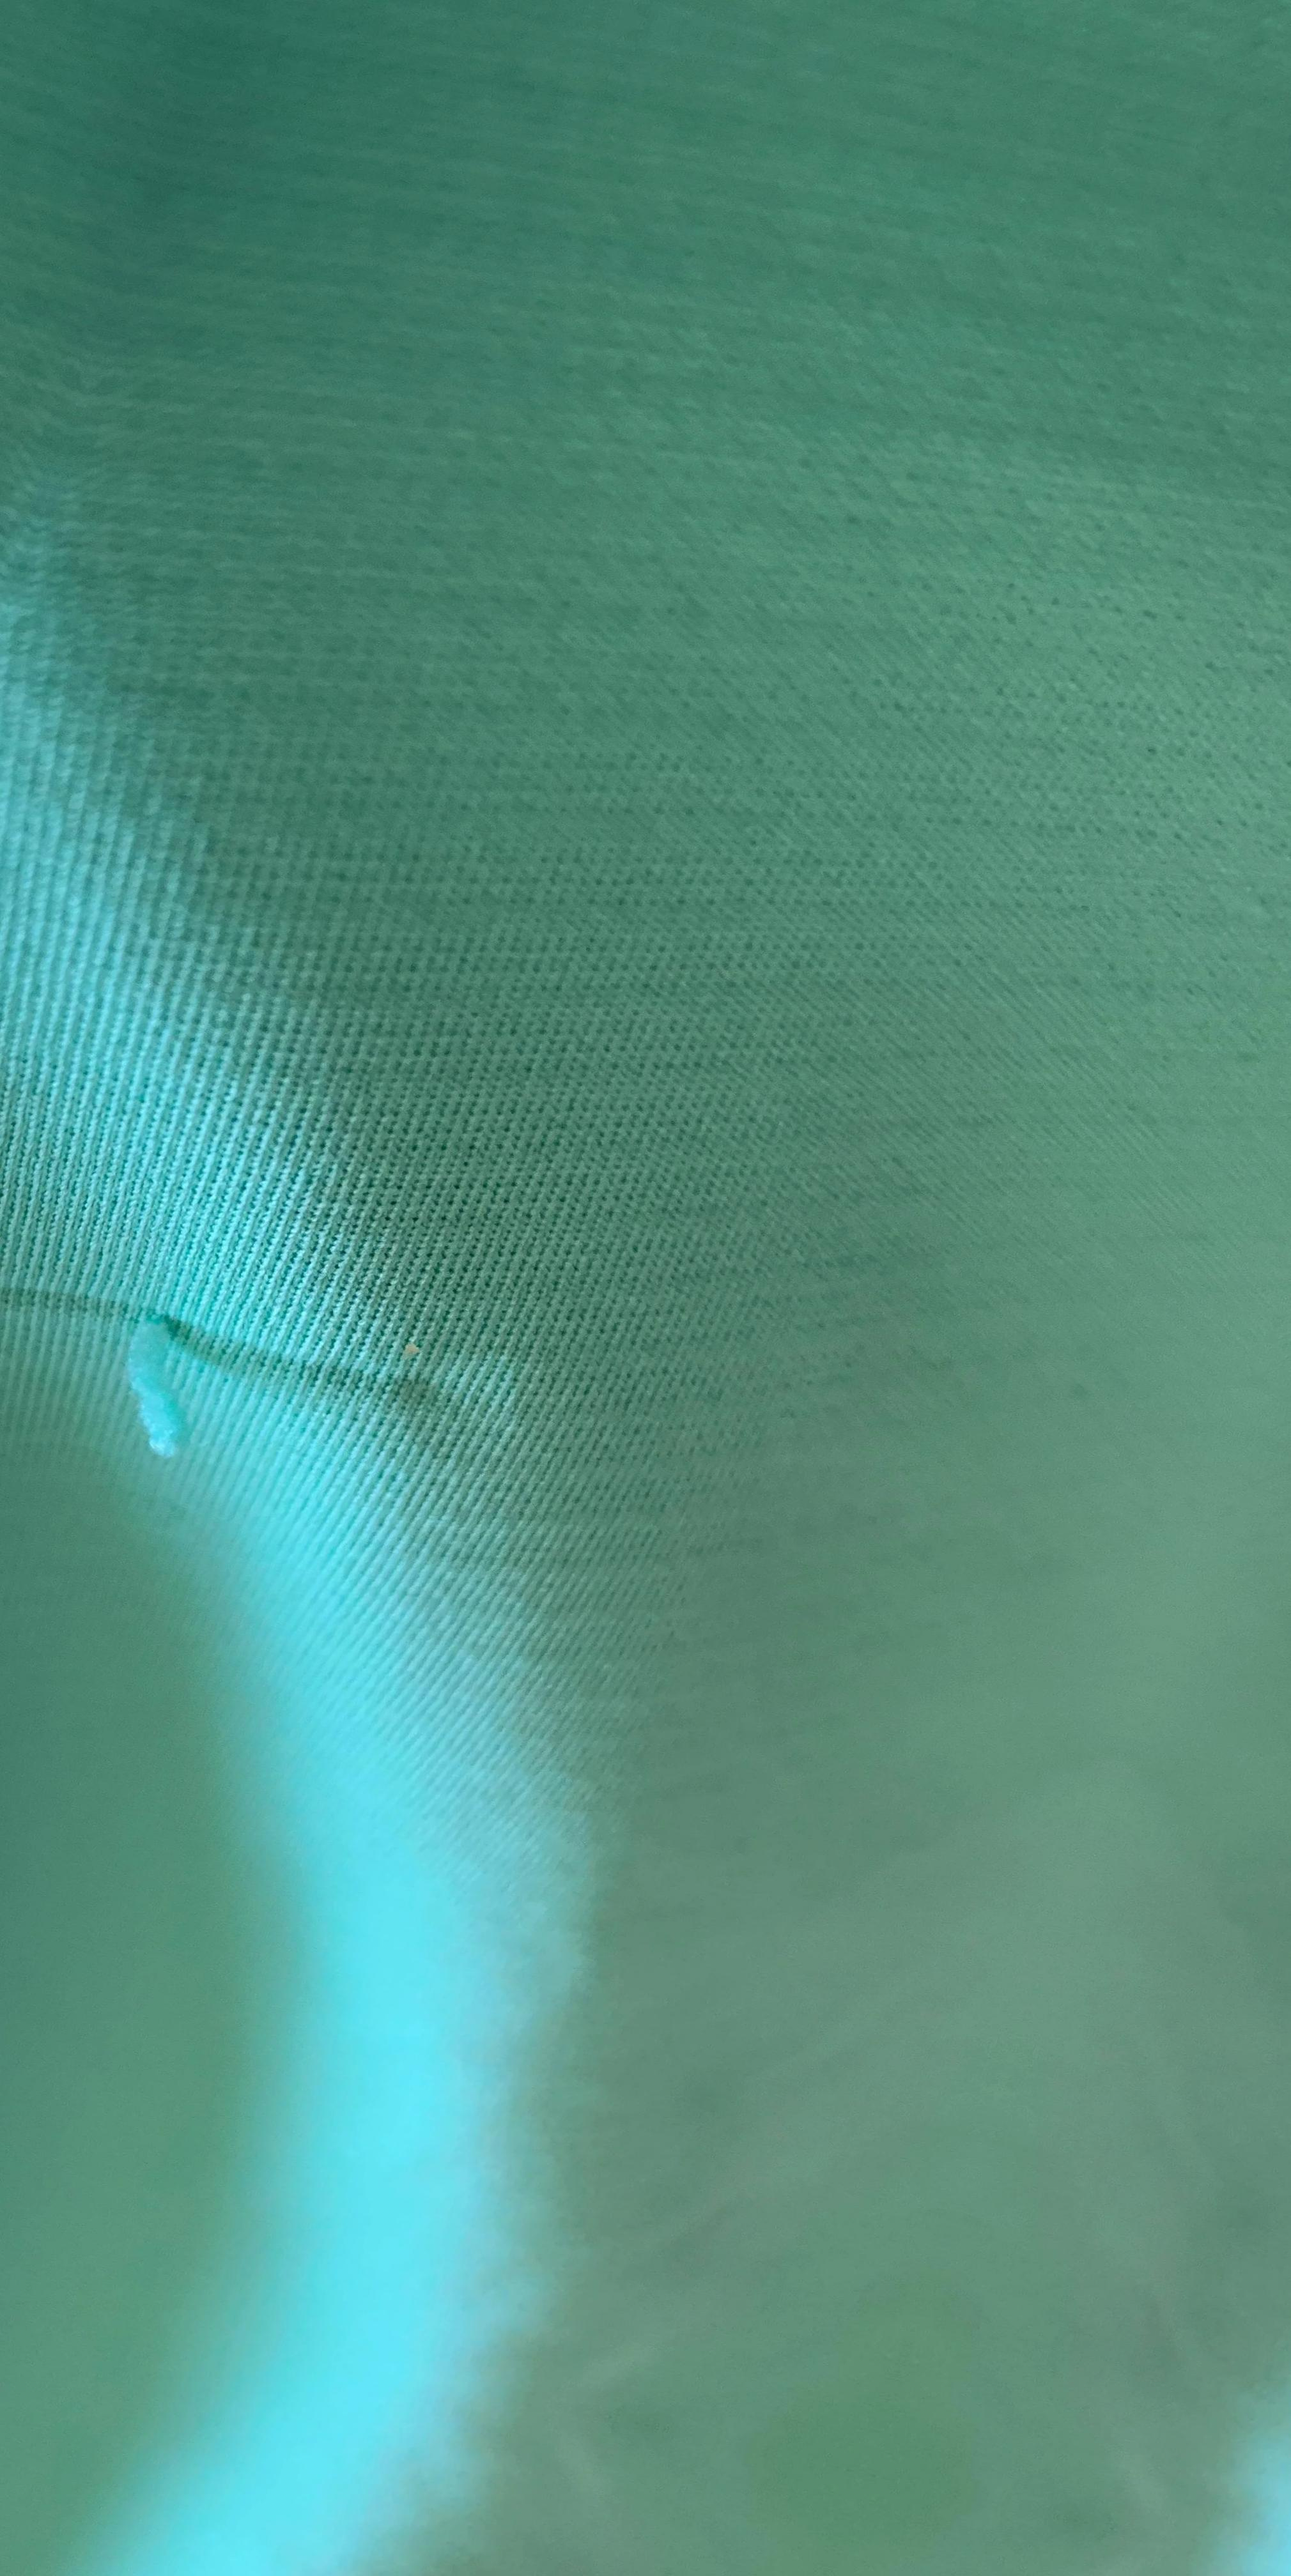snag: (56, 1216, 254, 1536)
